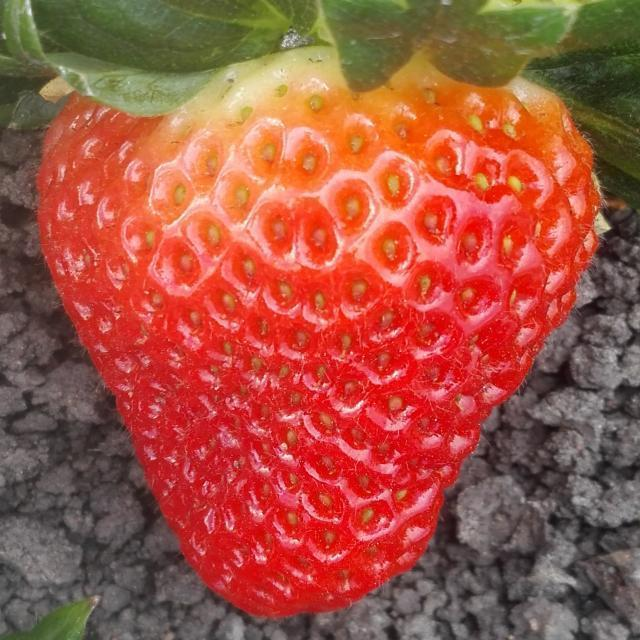Strawberry: (34, 39, 603, 618)
